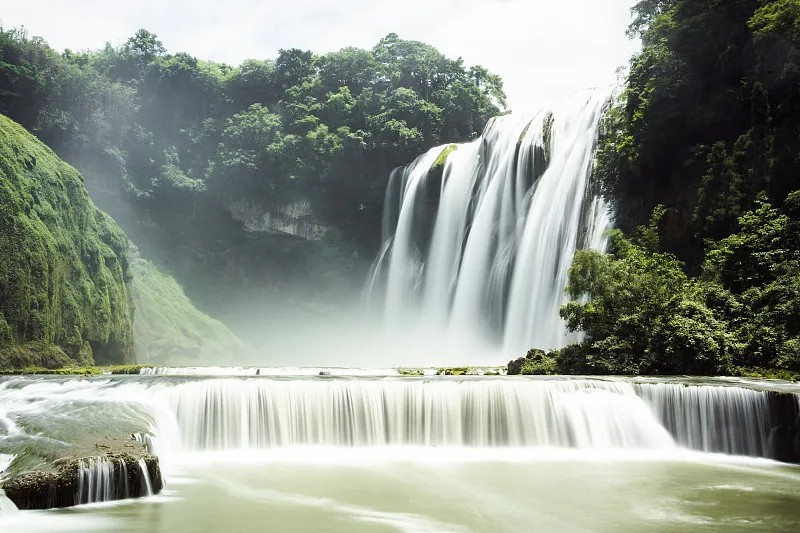Huangguoshu: (369, 104, 615, 368)
